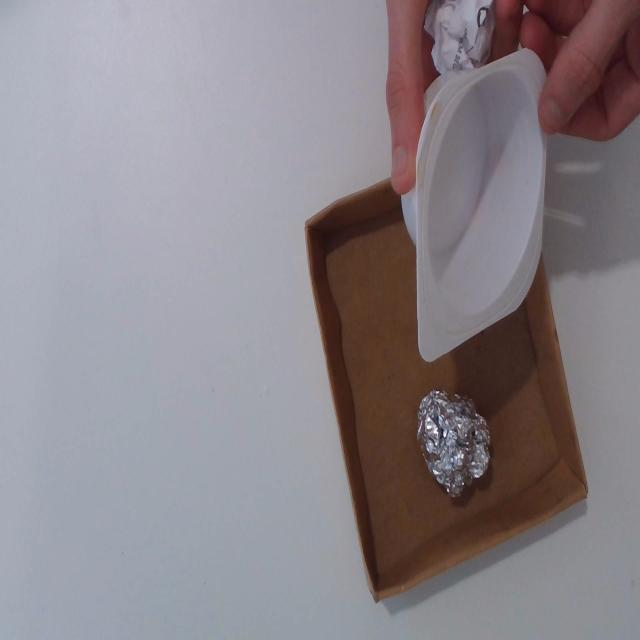Plastic: (416, 47, 547, 366)
